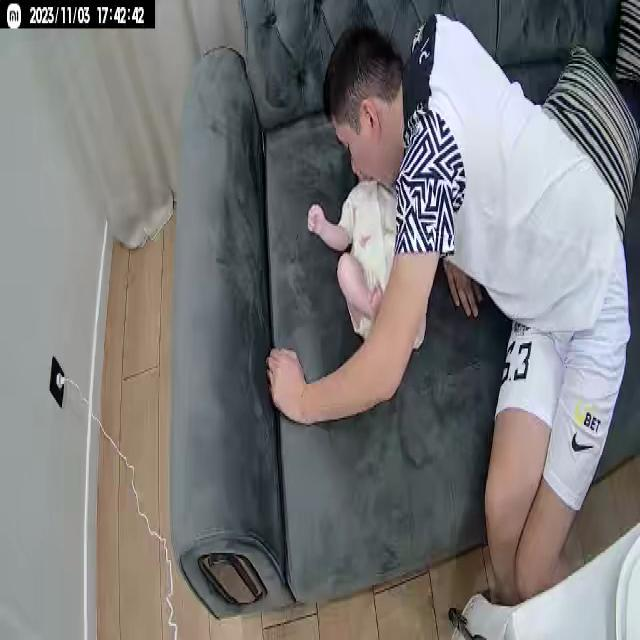baby: (303, 170, 431, 350)
